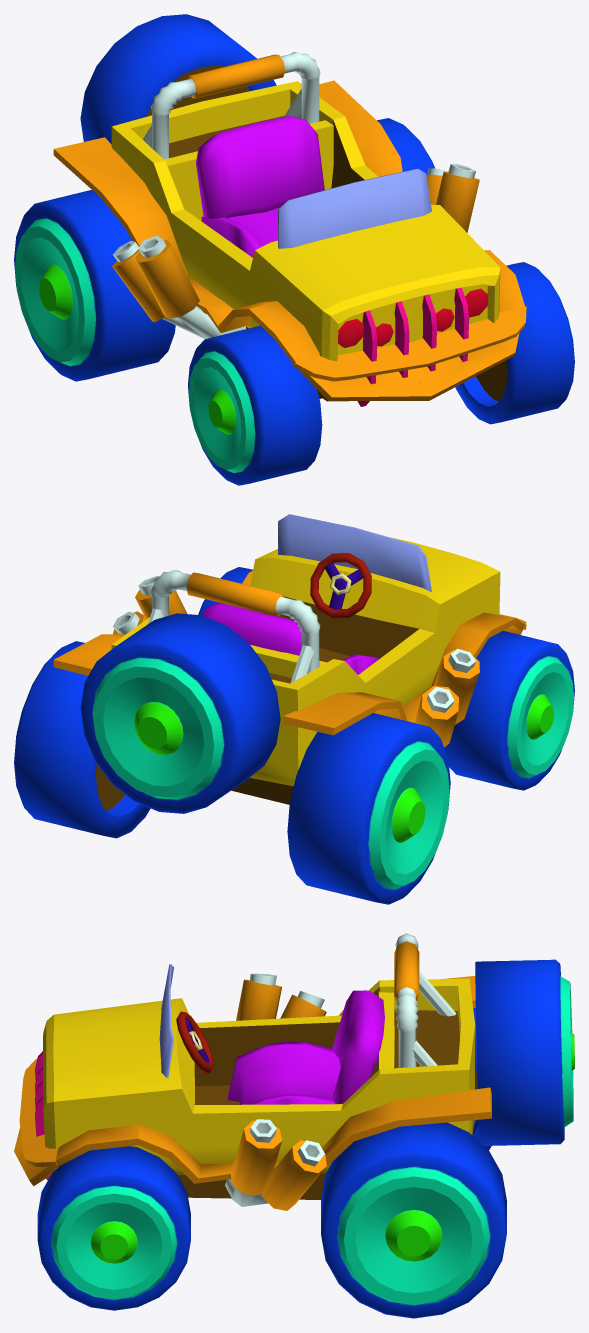
Rendered from Jeepkart.fbx.
3 views of the same model, one above another, from view 1: azimuth 30°, elevation 25°; view 2: azimuth 150°, elevation 25°; view 3: azimuth 270°, elevation 25° (orthographic).
Visible parts, largest first — view 1: Wheel, Jeep Body, Widebody, Drive, Wheel.001, Muffler, WindShield, Spoilers, lamp; view 2: Wheel, Wheel.001, Jeep Body, Widebody, WindShield, Drive, Spoilers, Muffler, Chasis; view 3: Wheel, Jeep Body, Wheel.001, Widebody, Drive, Muffler, Spoilers, Chasis, WindShield.
Part boxes in pixels (x1,y1,x2,y2): Wheel: [14, 118, 574, 485]; Jeep Body: [111, 81, 500, 361]; Widebody: [53, 80, 526, 406]; Drive: [196, 115, 324, 257]; Wheel.001: [80, 14, 276, 144]; Muffler: [112, 163, 479, 338]; WindShield: [278, 168, 431, 248]; Spoilers: [143, 52, 320, 159]; lamp: [338, 288, 488, 347]; Wheel: [14, 567, 574, 904]; Wheel.001: [80, 613, 280, 813]; Jeep Body: [111, 537, 500, 786]; Widebody: [53, 570, 526, 735]; WindShield: [278, 514, 431, 591]; Drive: [202, 553, 378, 674]; Spoilers: [148, 570, 320, 683]; Muffler: [113, 576, 479, 747]; Chasis: [231, 777, 293, 804]; Wheel: [37, 1008, 506, 1318]; Jeep Body: [43, 978, 475, 1174]; Wheel.001: [475, 959, 574, 1145]; Widebody: [14, 976, 491, 1186]; Drive: [176, 990, 384, 1104]; Muffler: [225, 973, 326, 1210]; Spoilers: [394, 933, 456, 1067]; Chasis: [178, 1173, 325, 1199]; WindShield: [159, 964, 173, 1077].
Size of the model in its own units: 254 by 178 by 333.
Materials: 1 (1 with a texture image).
